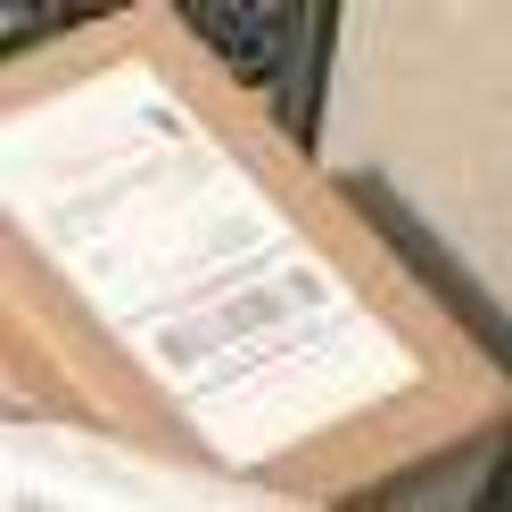Other: (17, 17, 499, 483)
